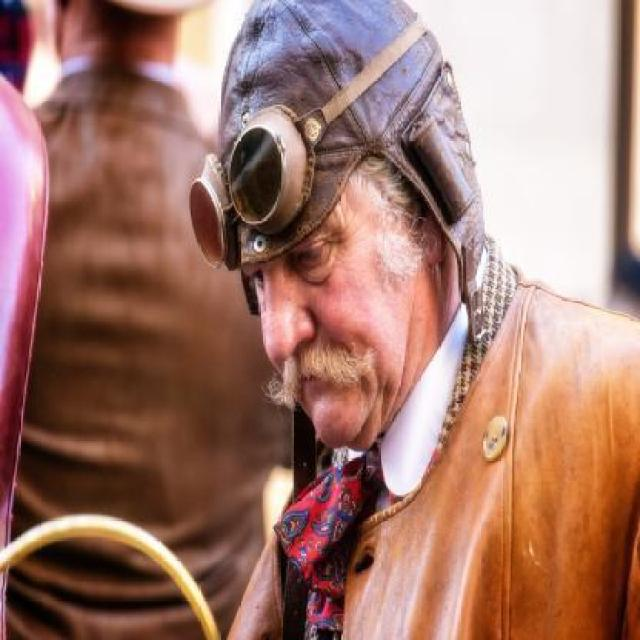face_nomask: (223, 225, 409, 433)
glasses: (186, 11, 429, 269), (182, 104, 328, 278)
